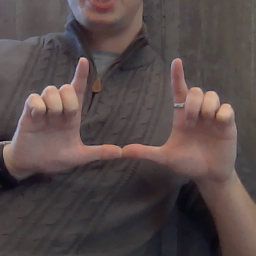U: (10, 54, 242, 178)
